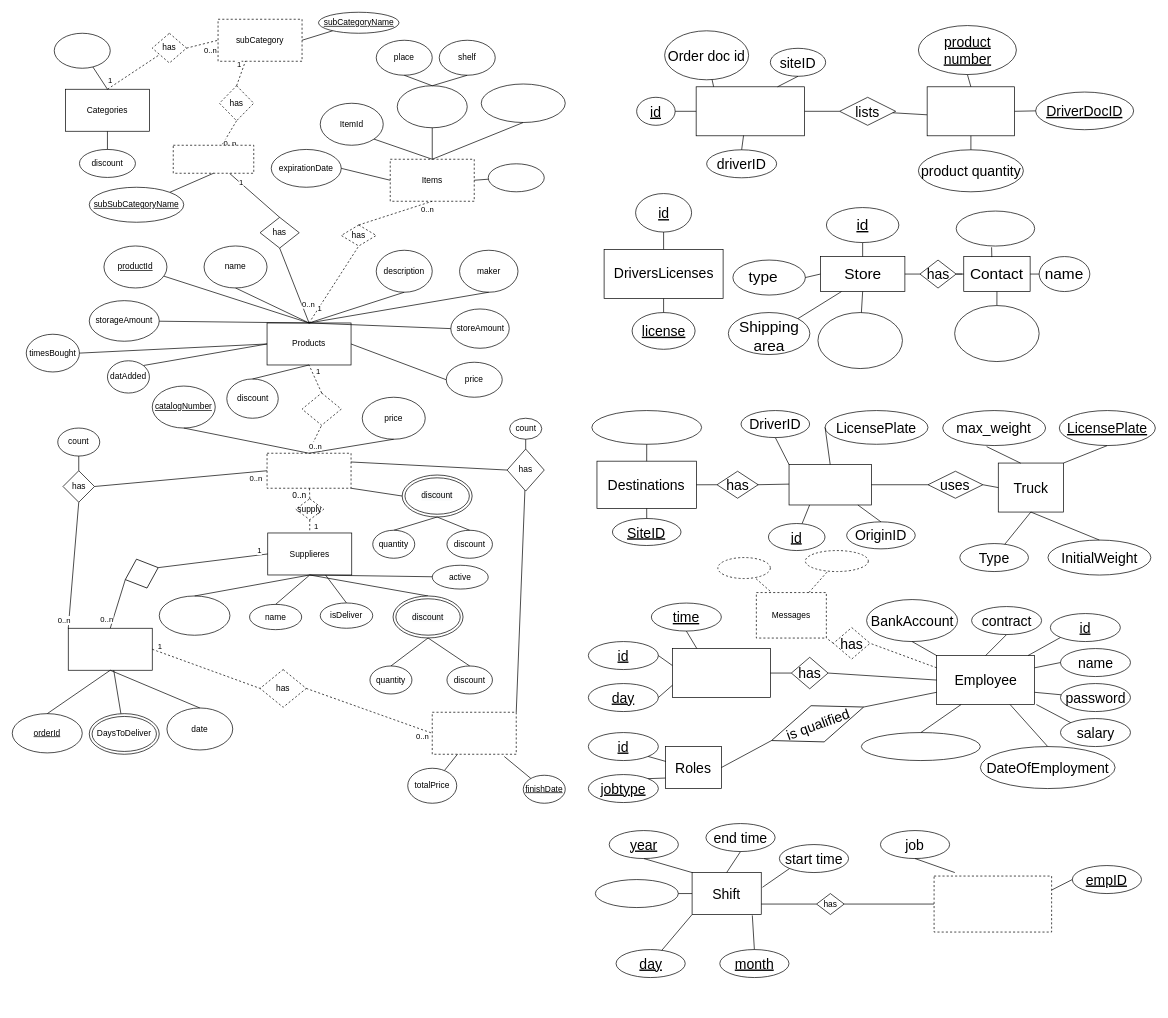
Image size: 1168x1018. Some labels were removed from this diagram. Here are the shapes that lost their labels. From the top down, the centre of each, then its label:
At [82,50]: "categoryName".
At [432,106]: "location".
At [523,102]: "defectiveDescription".
At [750,111]: "DriverDoc".
At [970,111]: "Supplies".
At [213,159]: "subSubCategory".
At [516,177]: "isDamaged".
At [995,228]: "address".
At [859,340]: "contact phone number".
At [996,333]: "phone number".
At [321,408]: "supply by".
At [646,427]: "OrderDocID".
At [308,470]: "ProductSupplier".
At [829,484]: "OrderDoc".
At [141,573]: "exutes".
At [743,568]: "read".
At [836,561]: "message".
At [194,615]: "supplierNumber".
At [110,649]: "OrdersFromSupplier".
At [721,673]: "Schedule".
At [474,733]: "PastOrdersSupplier".
At [920,746]: "MonthlyHours".
At [636,893]: "time of day".
At [992,903]: "EmployeesInShift".
